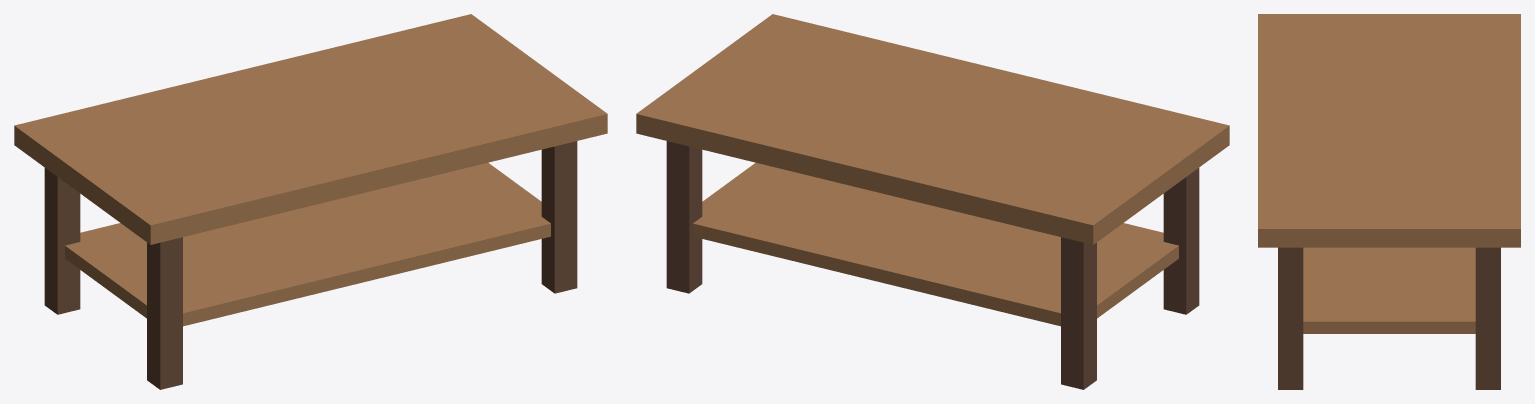
File: coffee_table.glb
The picture shows the model from 3 angles, left to right: view 1: azimuth 30°, elevation 25°; view 2: azimuth 150°, elevation 25°; view 3: azimuth 270°, elevation 25°; orthographic projection. The views are drawn at different scales.
Visible parts, largest first — view 1: Top, Lower shelf, Leg.008, Leg.010, Leg.009; view 2: Top, Lower shelf, Leg.009, Leg.011, Leg.008; view 3: Top, Lower shelf, Leg.010, Leg.011.
Part boxes in pixels (<box>): Top: <box>14,14,607,244</box>; Lower shelf: <box>65,163,550,326</box>; Leg.008: <box>147,237,182,389</box>; Leg.010: <box>541,141,577,293</box>; Leg.009: <box>44,168,80,314</box>; Top: <box>636,14,1229,244</box>; Lower shelf: <box>693,163,1178,326</box>; Leg.009: <box>1061,237,1096,389</box>; Leg.011: <box>666,141,702,293</box>; Leg.008: <box>1163,168,1199,314</box>; Top: <box>1258,14,1520,247</box>; Lower shelf: <box>1303,247,1475,333</box>; Leg.010: <box>1278,247,1303,389</box>; Leg.011: <box>1475,247,1500,389</box>.
Size of the model in its own units: 1.17 by 0.433 by 0.605.
